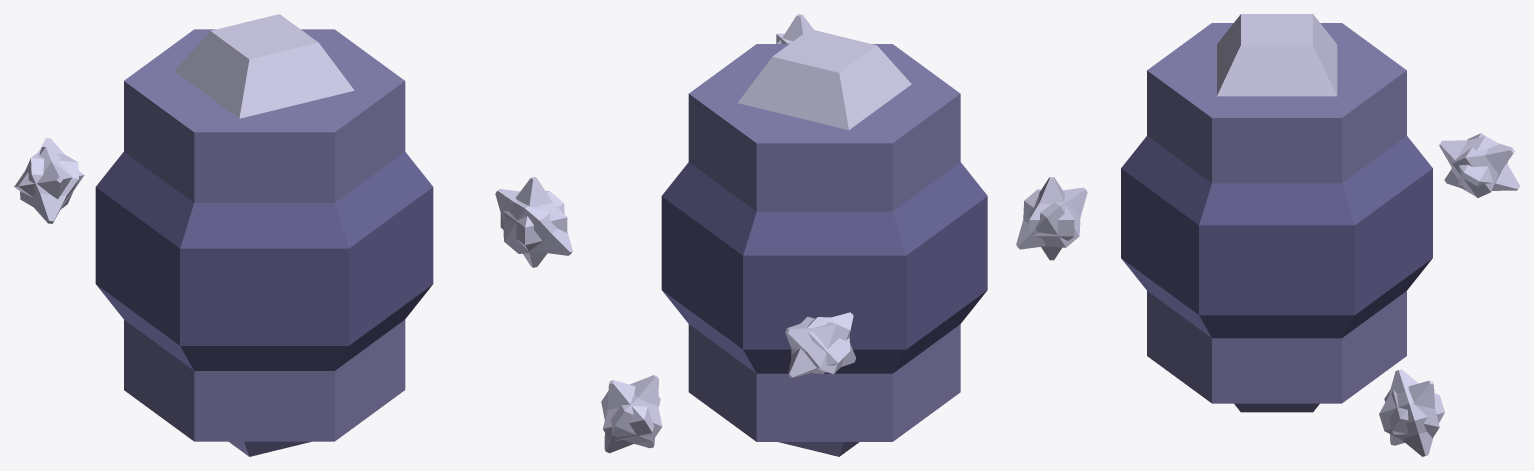
File: planet_long_moons_lilac.glb
3 renders of one model, left to right at view 1: azimuth 30°, elevation 25°; view 2: azimuth 150°, elevation 25°; view 3: azimuth 270°, elevation 25°, orthographic. The views are drawn at different scales.
Parts seen in each view (by area): view 1: hexagon_baseLarge% (×2), block_taper% (×2), roof_pointSteps (×7); view 2: hexagon_baseLarge% (×2), block_taper% (×2), roof_pointSteps (×9); view 3: hexagon_baseLarge% (×2), roof_pointSteps (×11), block_taper% (×2).
Part boxes in pixels (x1=…): hexagon_baseLarge% (×2): x1=95, y1=29, x2=433, y2=441; block_taper% (×2): x1=174, y1=14, x2=354, y2=456; roof_pointSteps (×7): x1=16, y1=138, x2=572, y2=267; hexagon_baseLarge% (×2): x1=661, y1=44, x2=987, y2=441; block_taper% (×2): x1=738, y1=29, x2=911, y2=456; roof_pointSteps (×9): x1=601, y1=14, x2=856, y2=453; hexagon_baseLarge% (×2): x1=1121, y1=23, x2=1432, y2=403; roof_pointSteps (×11): x1=1016, y1=133, x2=1519, y2=456; block_taper% (×2): x1=1217, y1=14, x2=1337, y2=412.
Bounding box in the file's own units: 1.48 × 1.8 × 2.24.
